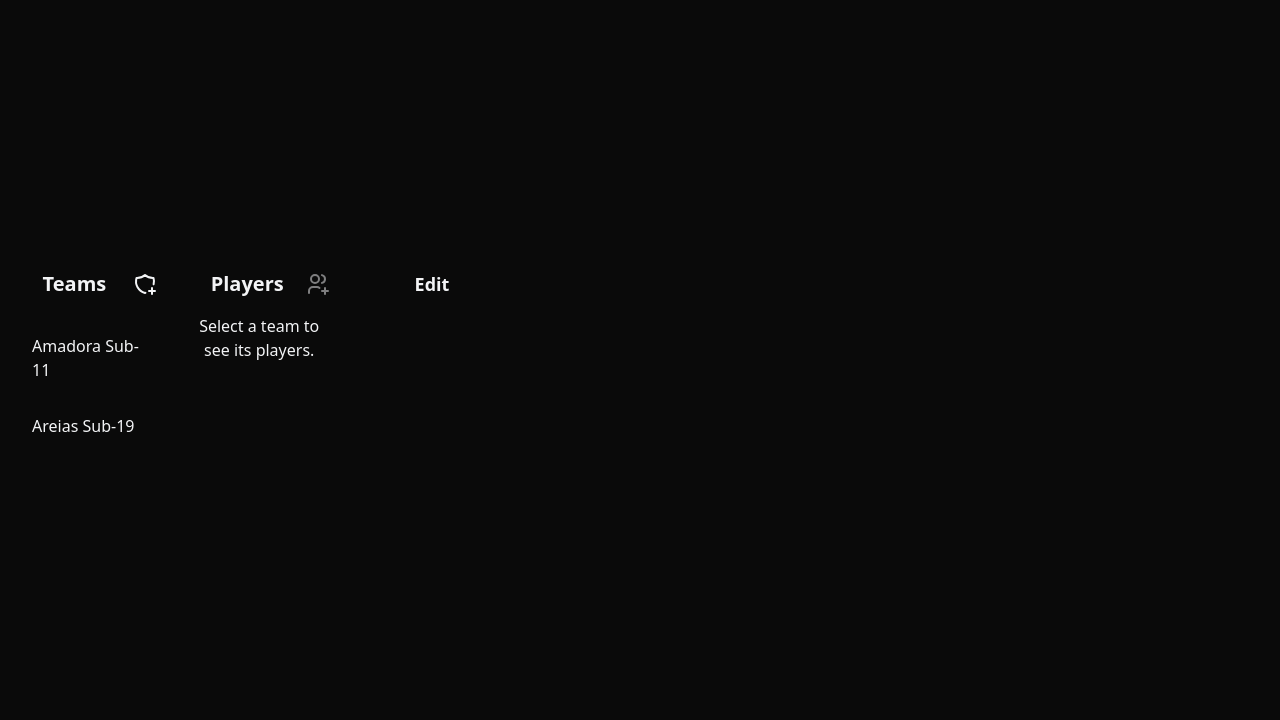
creating a team via the popup refreshes the team list without a manual reload
Expected: the button "Amadora Sub-11" is shown, top-left (16, 322), bottom-right (157, 394)
Click the icon with class "tabler-icon-shield-plus": click(145, 284) top-left (133, 272), bottom-right (157, 296)
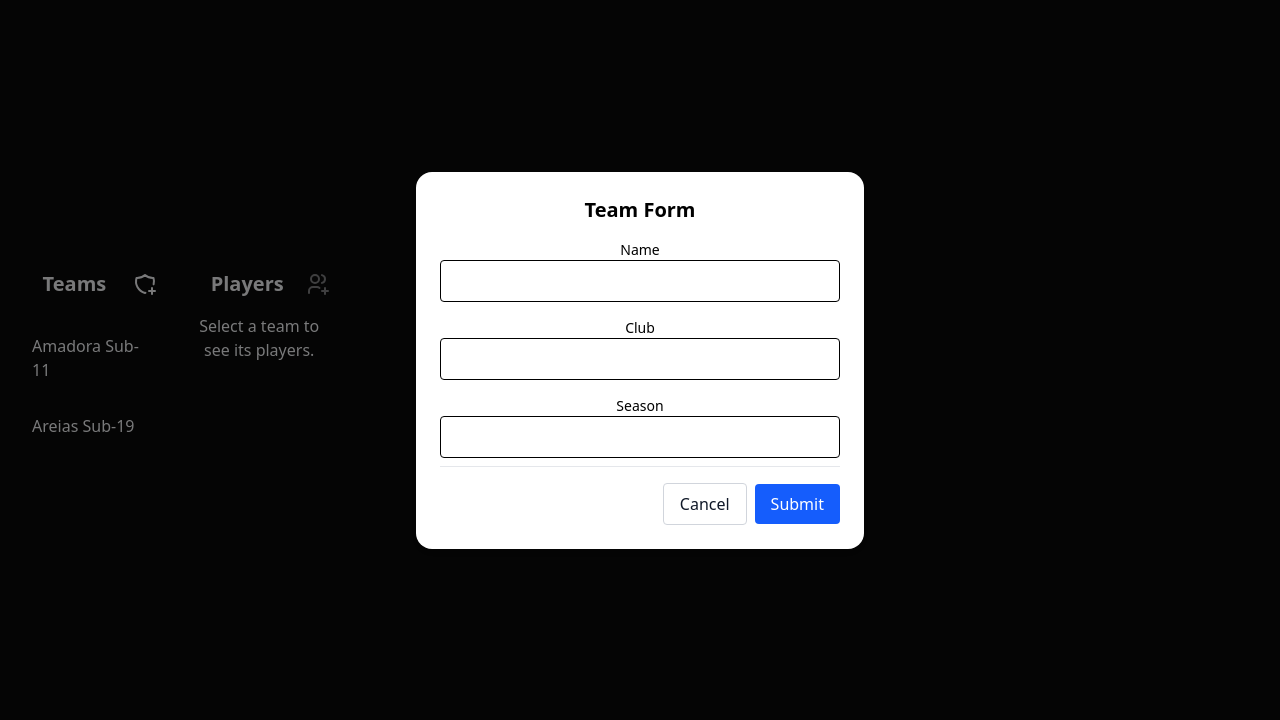
In the field labelled "Name": (640, 280) top-left (440, 260), bottom-right (840, 302), type "Sub-15"
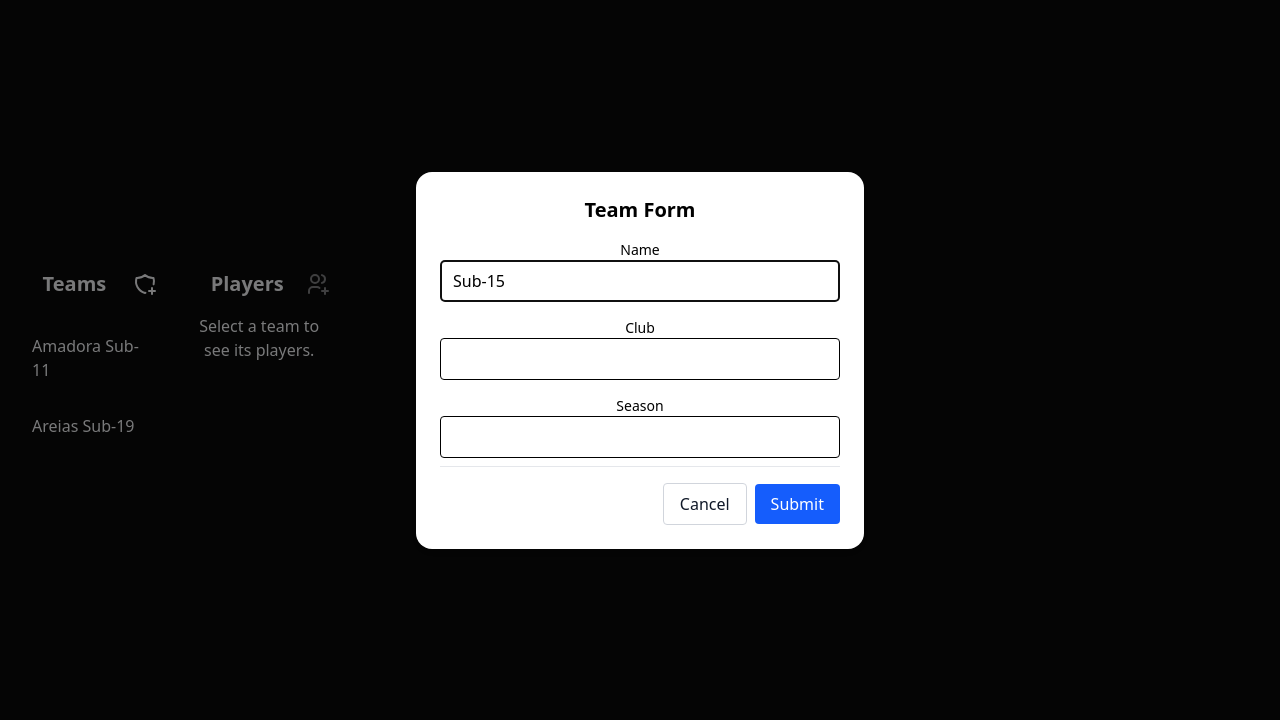
In the field labelled "Club": (640, 358) top-left (440, 338), bottom-right (840, 380), type "TestClub"
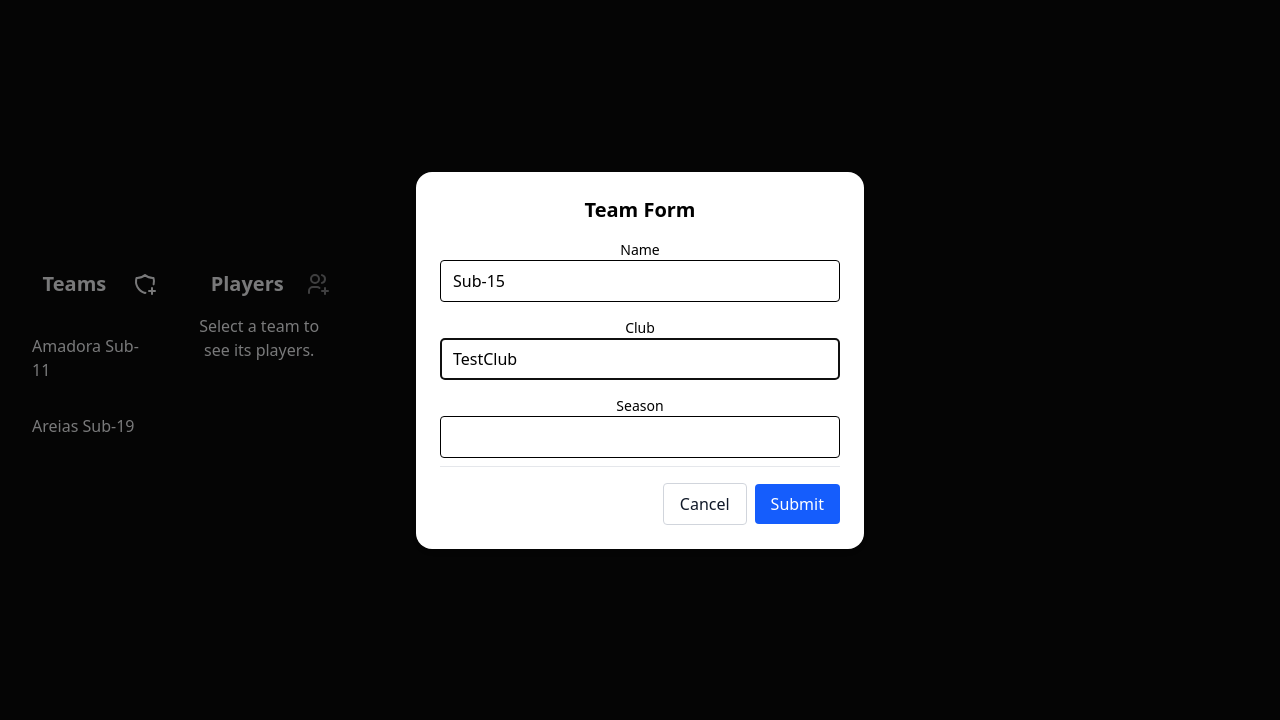
In the field labelled "Season": (640, 436) top-left (440, 416), bottom-right (840, 458), type "24/25"
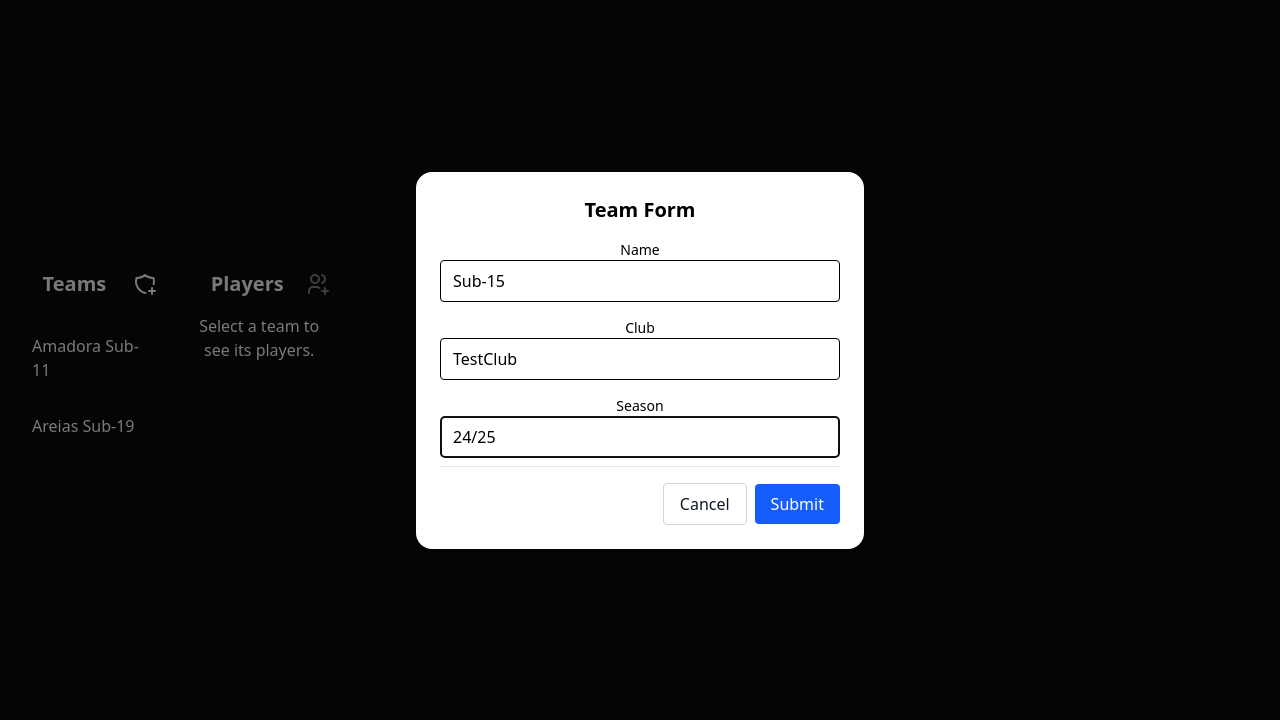
Click the button "Submit": click(797, 504) top-left (755, 484), bottom-right (840, 524)
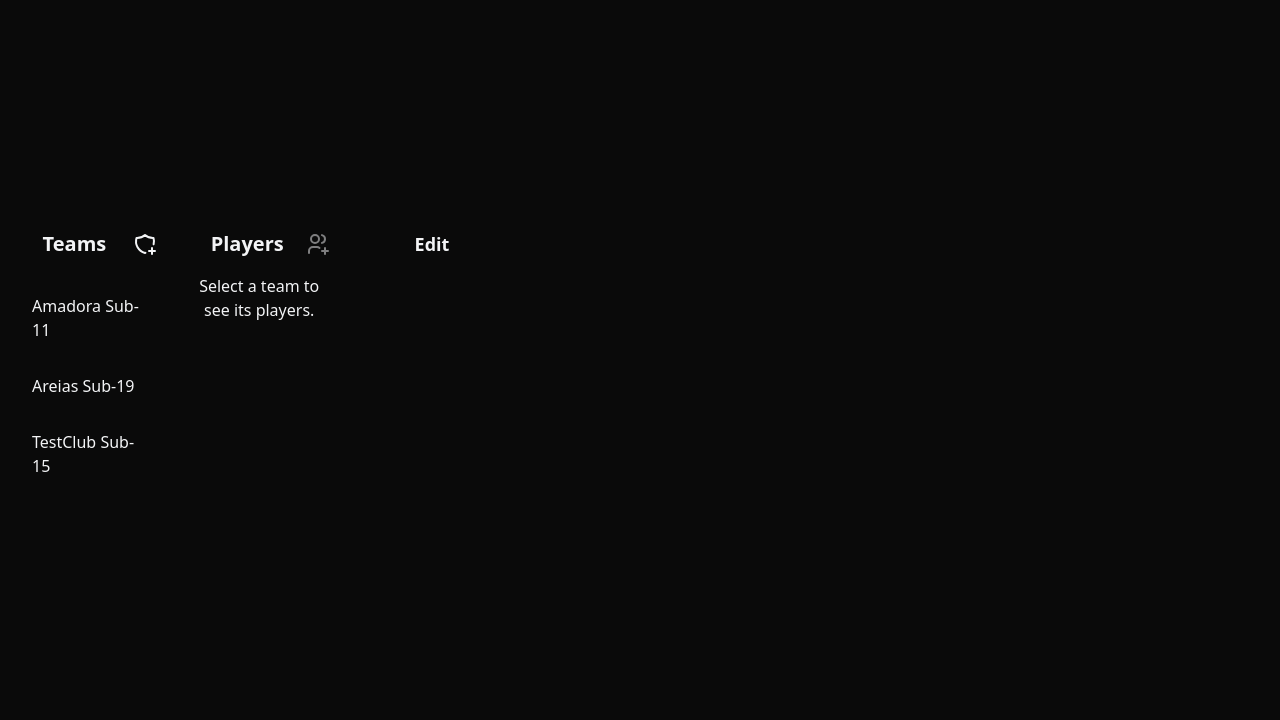
Result: the button "TestClub Sub-15" is shown at top-left (16, 418), bottom-right (157, 490)
